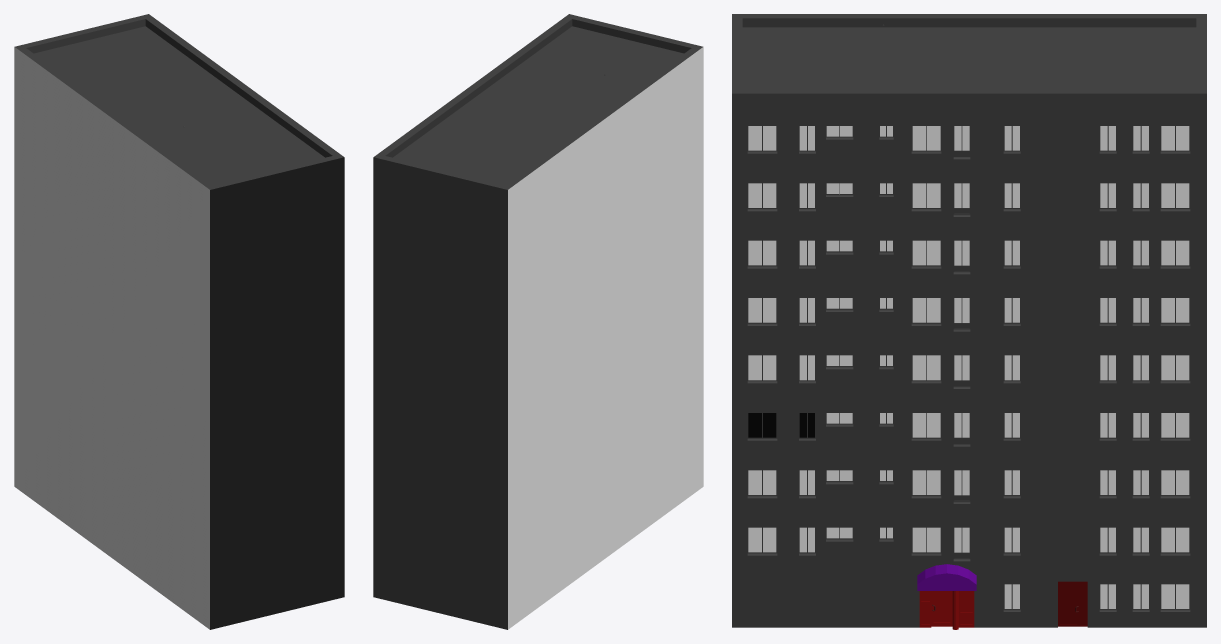
Rendered from apartment1.FBX.
3 views of the same model, side by side, from view 1: azimuth 30°, elevation 25°; view 2: azimuth 150°, elevation 25°; view 3: azimuth 270°, elevation 25° (orthographic). The views are drawn at different scales.
Visible parts, largest first — view 1: Building_C1; view 2: Building_C1; view 3: Building_C1.
Boxes of the visible parts, left/top/right/bottom form: Building_C1: left=14, top=14, right=344, bottom=629; Building_C1: left=373, top=14, right=703, bottom=629; Building_C1: left=732, top=14, right=1206, bottom=629.
Bounding box in the file's own units: 995 × 2849 × 2249.
